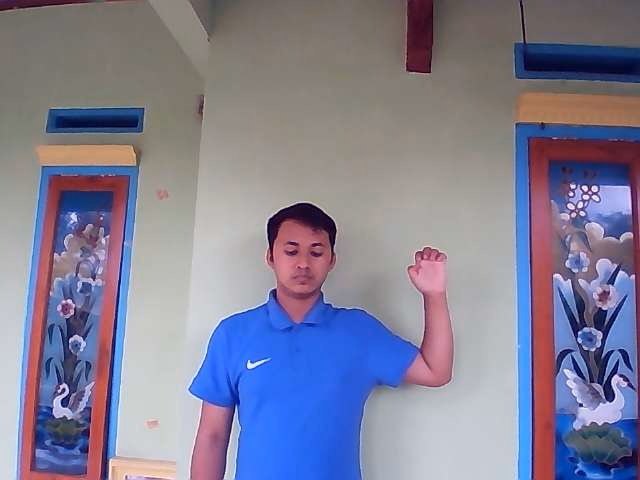E: (406, 246, 449, 293)
